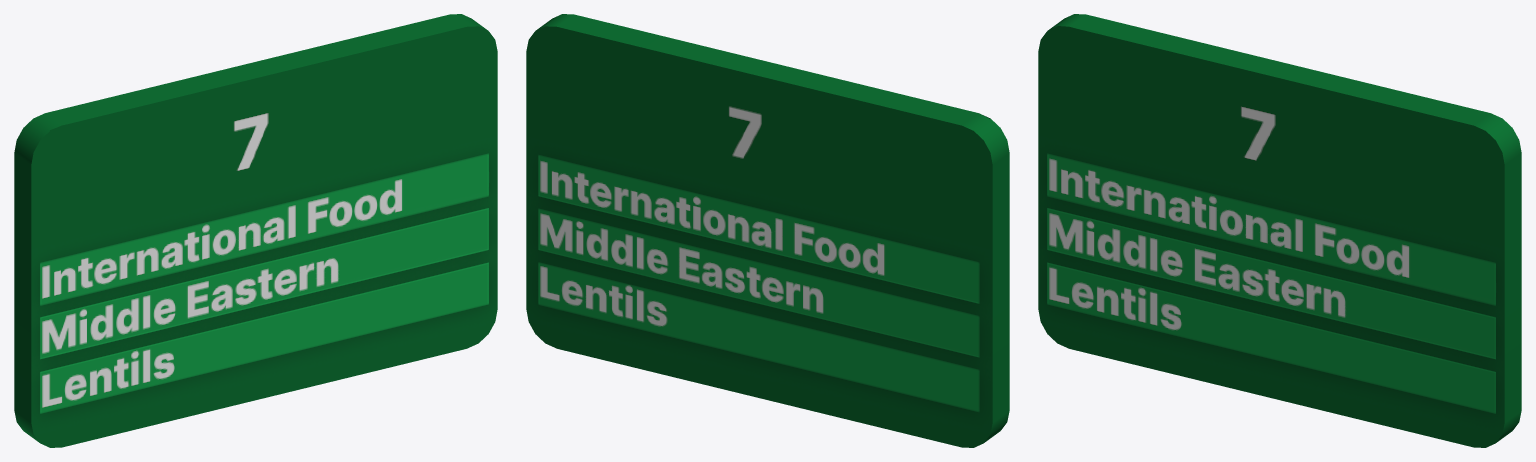
File: aisle7.fbx
3 views of the same model, side by side, from view 1: azimuth 30°, elevation 25°; view 2: azimuth 150°, elevation 25°; view 3: azimuth 330°, elevation 25° (orthographic).
Parts seen in each view (by area): view 1: pCube1; view 2: pCube1; view 3: pCube1.
Part boxes in pixels (left/top/right/bottom): pCube1: left=14, top=14, right=497, bottom=447; pCube1: left=526, top=14, right=1009, bottom=447; pCube1: left=1038, top=14, right=1521, bottom=447.
Size of the model in its own units: 15.9 by 10.49 by 1.
